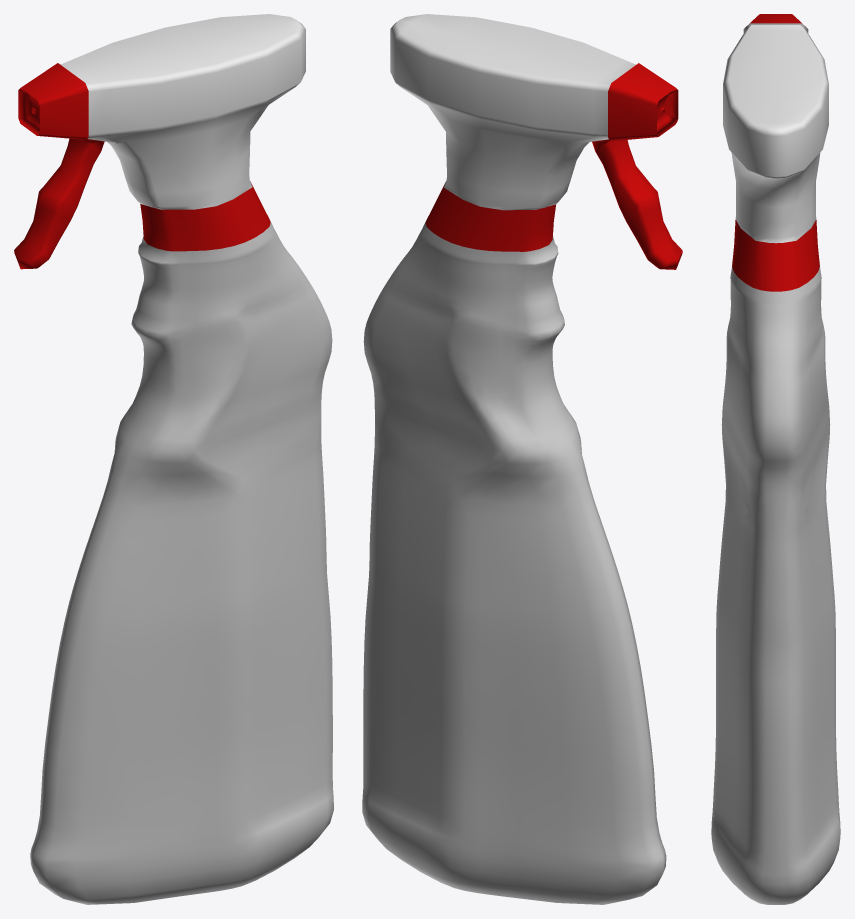
File: SprayBottle.fbx
3 views of the same model, side by side, from view 1: azimuth 30°, elevation 25°; view 2: azimuth 150°, elevation 25°; view 3: azimuth 270°, elevation 25° (orthographic). The views are drawn at different scales.
Visible parts, largest first — view 1: pCube1; view 2: pCube1; view 3: pCube1.
Boxes of the visible parts, <box> form: pCube1: <box>14,14,333,904</box>; pCube1: <box>362,14,682,904</box>; pCube1: <box>711,14,840,904</box>.
Bounding box in the file's own units: 2.4 × 6.23 × 0.9269.
